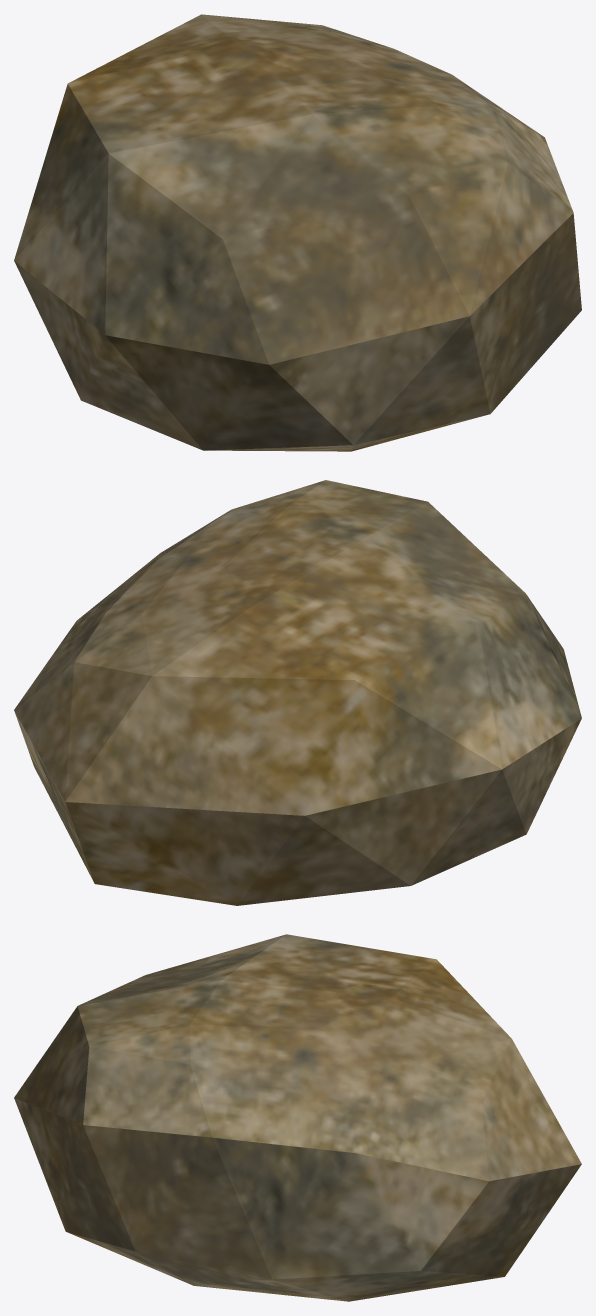
The model's file is Rock_2.fbx.
The picture shows the model from 3 angles, top to bottom: view 1: azimuth 30°, elevation 25°; view 2: azimuth 150°, elevation 25°; view 3: azimuth 270°, elevation 25°; orthographic projection. The views are drawn at different scales.
Parts seen in each view (by area): view 1: Icosphere; view 2: Icosphere; view 3: Icosphere.
Boxes of the visible parts, bbox=[...] form: Icosphere: bbox=[14, 14, 581, 451]; Icosphere: bbox=[14, 480, 581, 905]; Icosphere: bbox=[14, 934, 581, 1301].
Bounding box in the file's own units: 200 × 127 × 242.
